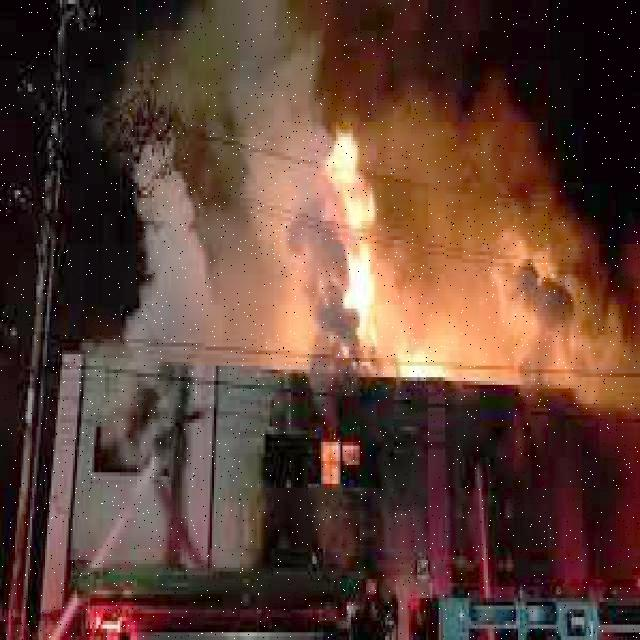fire: (307, 128, 403, 392)
